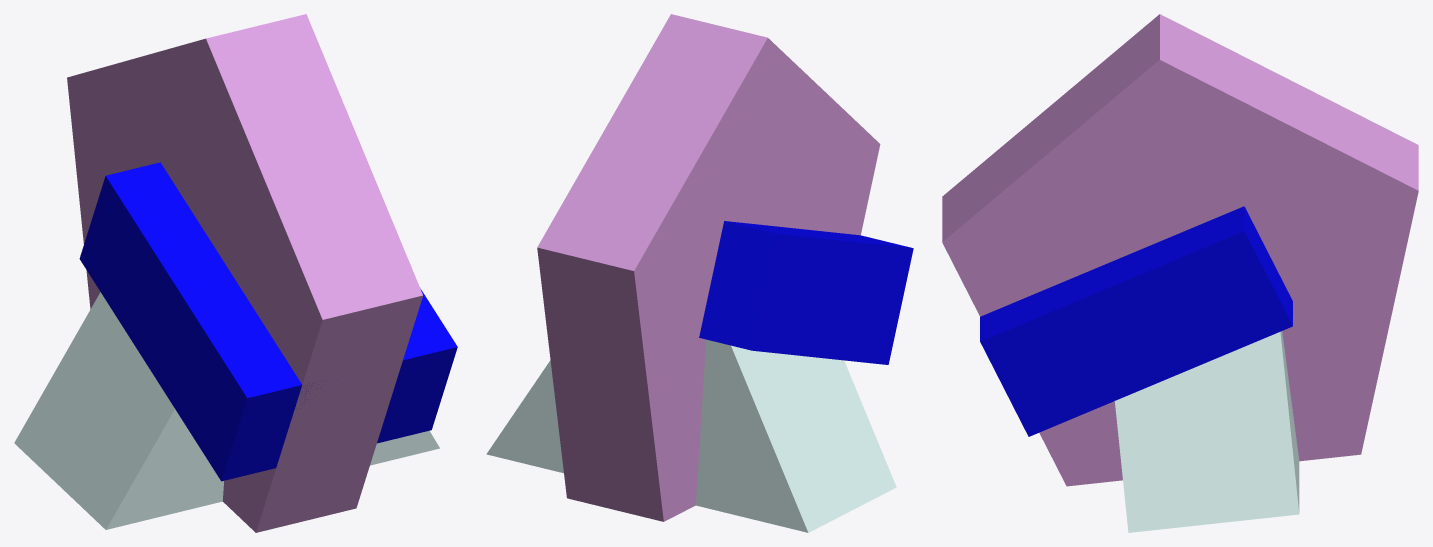
Rendered from ChaseGugger.gltf.
3 views of the same model, side by side, from view 1: azimuth 30°, elevation 25°; view 2: azimuth 150°, elevation 25°; view 3: azimuth 270°, elevation 25° (orthographic). The views are drawn at different scales.
Visible parts, largest first — view 1: mesh0_mesh_3, mesh0_mesh_1, mesh0_mesh_4, mesh13_mesh_3, mesh7_mesh, mesh7_mesh_5, mesh7_mesh_3, mesh13_mesh_4; view 2: mesh0_mesh_3, mesh0_mesh, mesh0_mesh_6, mesh13_mesh_3, mesh7_mesh, mesh13_mesh, mesh7_mesh_1, mesh7_mesh_5; view 3: mesh0_mesh_2, mesh7_mesh_2, mesh13_mesh_2, mesh0_mesh, mesh0_mesh_1, mesh7_mesh_5, mesh7_mesh_1, mesh13_mesh.
Boxes of the visible parts, x1,y1,x2,y2 form: mesh0_mesh_3: [67, 38, 322, 532]; mesh0_mesh_1: [206, 14, 422, 319]; mesh0_mesh_4: [256, 295, 422, 532]; mesh13_mesh_3: [14, 292, 174, 529]; mesh7_mesh: [79, 176, 247, 480]; mesh7_mesh_5: [106, 162, 457, 398]; mesh7_mesh_3: [221, 347, 457, 481]; mesh13_mesh_4: [106, 409, 439, 529]; mesh0_mesh_3: [634, 38, 880, 521]; mesh0_mesh: [537, 14, 767, 270]; mesh0_mesh_6: [537, 247, 663, 521]; mesh13_mesh_3: [731, 345, 896, 532]; mesh7_mesh: [752, 234, 913, 364]; mesh13_mesh: [486, 339, 808, 532]; mesh7_mesh_1: [699, 221, 776, 350]; mesh7_mesh_5: [725, 221, 911, 247]; mesh0_mesh_2: [942, 60, 1418, 486]; mesh7_mesh_2: [980, 231, 1292, 436]; mesh13_mesh_2: [1114, 332, 1299, 532]; mesh0_mesh: [1160, 14, 1418, 190]; mesh0_mesh_1: [942, 14, 1159, 241]; mesh7_mesh_5: [980, 206, 1244, 341]; mesh7_mesh_1: [1244, 206, 1292, 325]; mesh13_mesh: [1280, 331, 1299, 512].
Size of the model in its own units: 0.0844 by 0.1105 by 0.1118.
